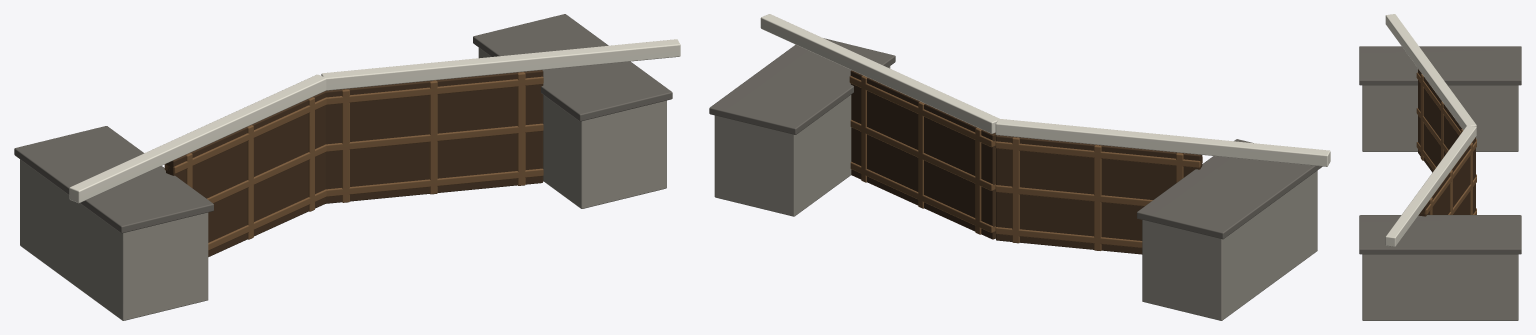
Rendered from sluisdeur.glb.
3 renders of one model, left to right at view 1: azimuth 30°, elevation 25°; view 2: azimuth 150°, elevation 25°; view 3: azimuth 270°, elevation 25°, orthographic. The views are drawn at different scales.
Visible parts, largest first — view 1: Sluisdeur; view 2: Sluisdeur; view 3: Sluisdeur.
Part boxes in pixels (bbox=[...]): Sluisdeur: bbox=[14, 14, 680, 320]; Sluisdeur: bbox=[709, 14, 1330, 320]; Sluisdeur: bbox=[1359, 14, 1521, 320].
Bounding box in the file's own units: 16.98 × 3.37 × 5.2.
